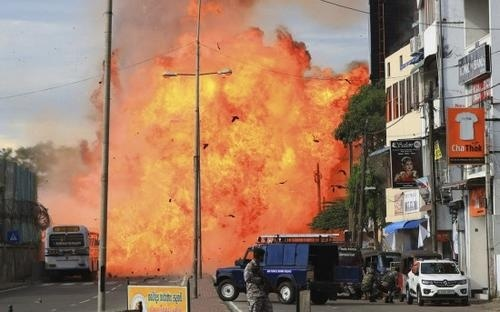fire: (47, 10, 368, 273)
